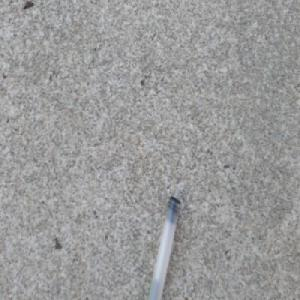Pen: (147, 194, 183, 300)
